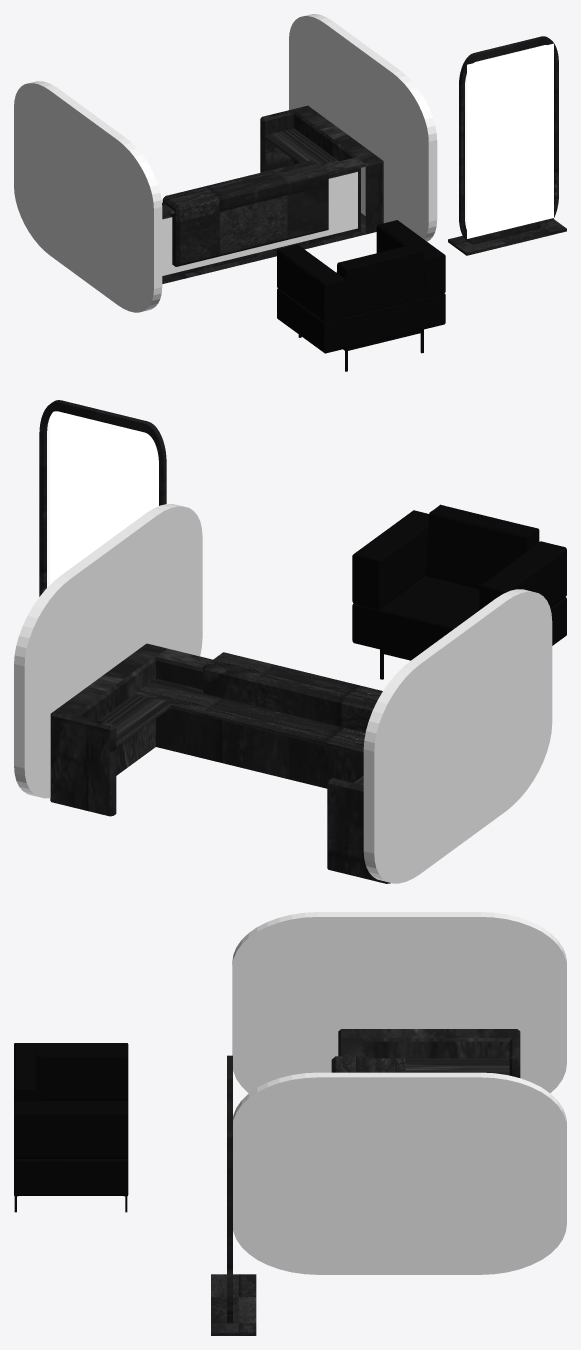
File: front.glb
The picture shows the model from 3 angles, top to bottom: view 1: azimuth 30°, elevation 25°; view 2: azimuth 150°, elevation 25°; view 3: azimuth 270°, elevation 25°; orthographic projection. The views are drawn at different scales.
Parts seen in each view (by area): view 1: glass, chair, poster, center, outer, irons, inner; view 2: glass, outer, chair, poster, center, inner, irons; view 3: glass, chair, outer, irons, inner, center.
Boxes of the visible parts, bbox=[...] form: glass: bbox=[14, 14, 437, 312]; chair: bbox=[277, 220, 445, 371]; poster: bbox=[467, 43, 553, 238]; center: bbox=[162, 160, 328, 266]; outer: bbox=[162, 105, 383, 283]; irons: bbox=[448, 36, 566, 255]; inner: bbox=[162, 128, 338, 204]; glass: bbox=[14, 504, 552, 883]; outer: bbox=[50, 643, 390, 883]; chair: bbox=[352, 504, 566, 679]; poster: bbox=[49, 411, 158, 584]; center: bbox=[203, 652, 382, 732]; inner: bbox=[98, 678, 365, 785]; irons: bbox=[39, 400, 166, 596]; glass: bbox=[232, 912, 566, 1274]; chair: bbox=[14, 1043, 128, 1212]; outer: bbox=[338, 1029, 520, 1077]; irons: bbox=[211, 1055, 256, 1335]; inner: bbox=[370, 1058, 509, 1075]; center: bbox=[331, 1056, 371, 1072].
Size of the model in its own units: 11.65 by 5.51 by 11.53.
Materials: 5 (2 with a texture image).
